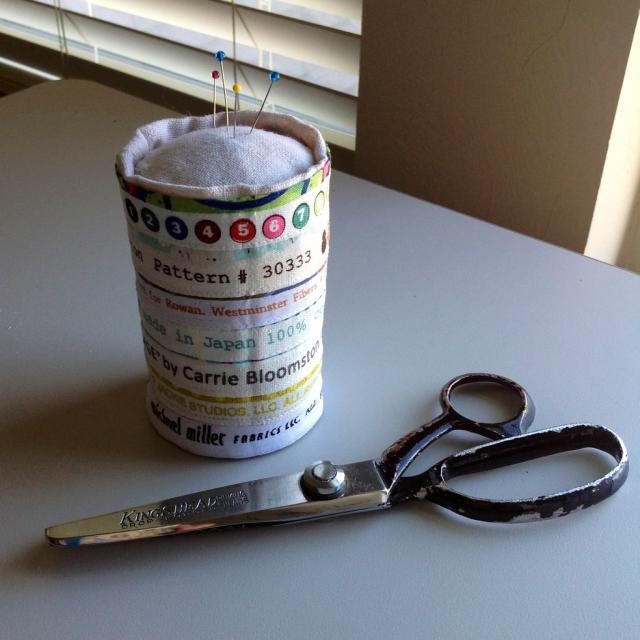scissors: (44, 371, 629, 548)
